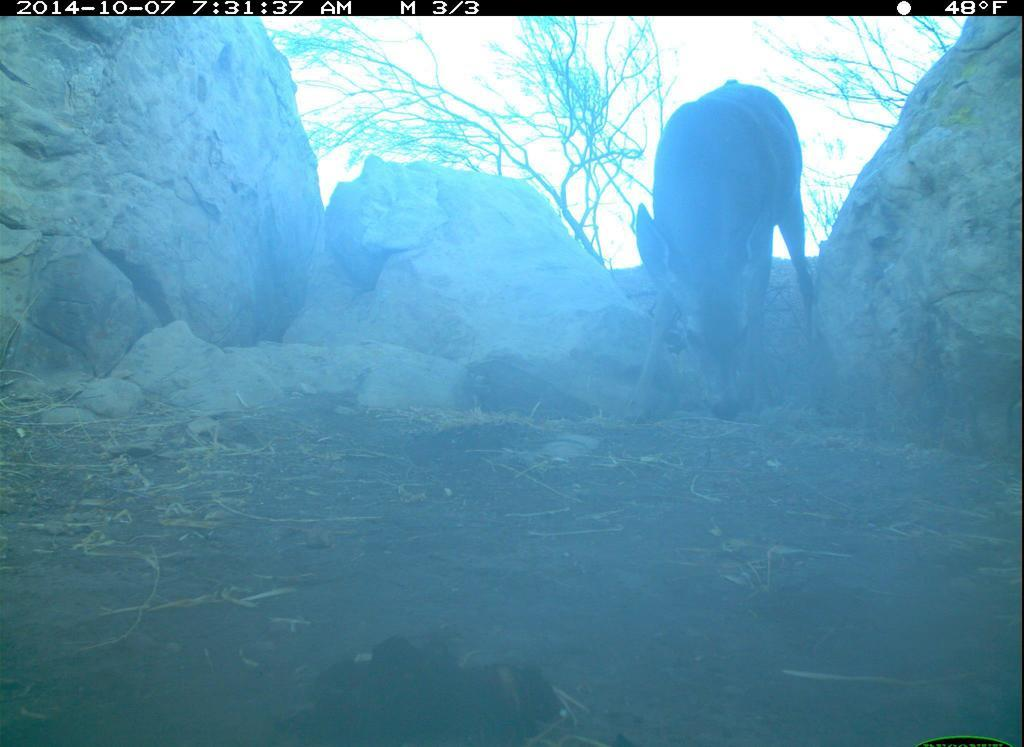deer: (614, 80, 854, 424)
